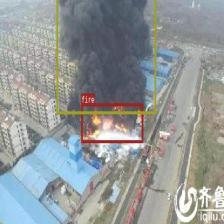fire: (81, 102, 143, 142)
smoke: (56, 0, 156, 113)
